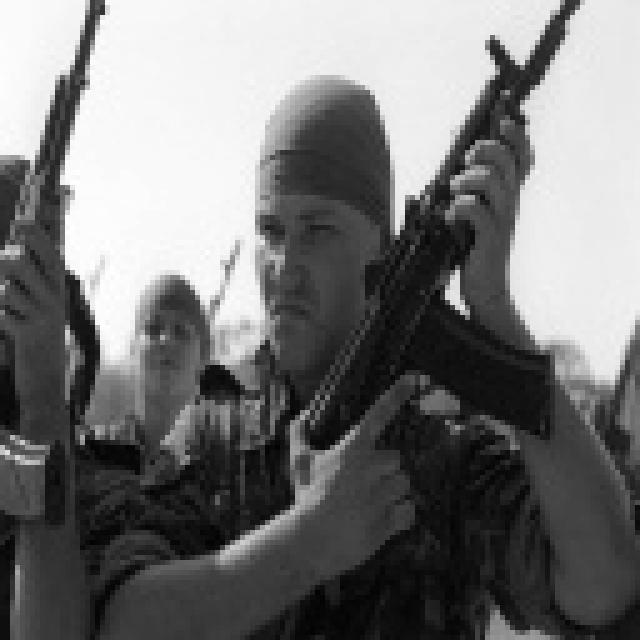Rifle: (240, 0, 640, 530), (0, 0, 155, 540)
